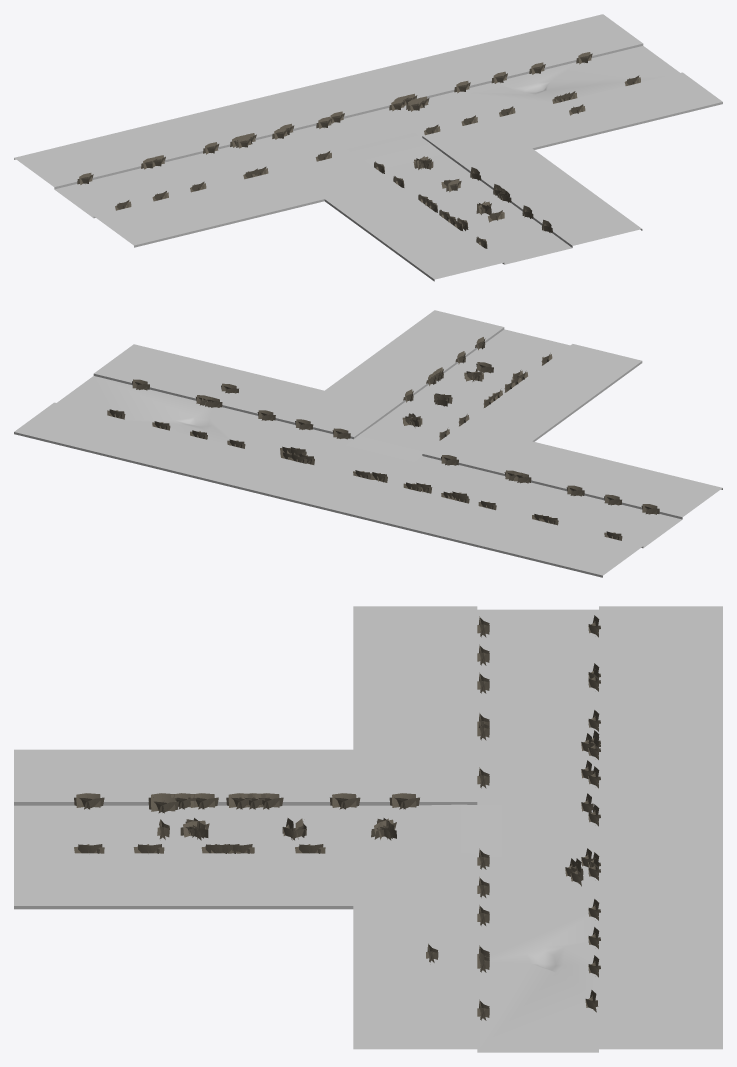
The model's file is road poser.fbx.
3 views of the same model, one above another, from view 1: azimuth 30°, elevation 25°; view 2: azimuth 150°, elevation 25°; view 3: azimuth 270°, elevation 25° (orthographic). The views are drawn at different scales.
Parts seen in each view (by area): view 1: polymsh71; view 2: polymsh71; view 3: polymsh71.
Boxes of the visible parts, left/top/right/bottom form: polymsh71: left=14, top=14, right=722, bottom=281; polymsh71: left=14, top=310, right=722, bottom=577; polymsh71: left=14, top=606, right=722, bottom=1052.
Size of the model in its own units: 69.78 by 1.39 by 47.19.
